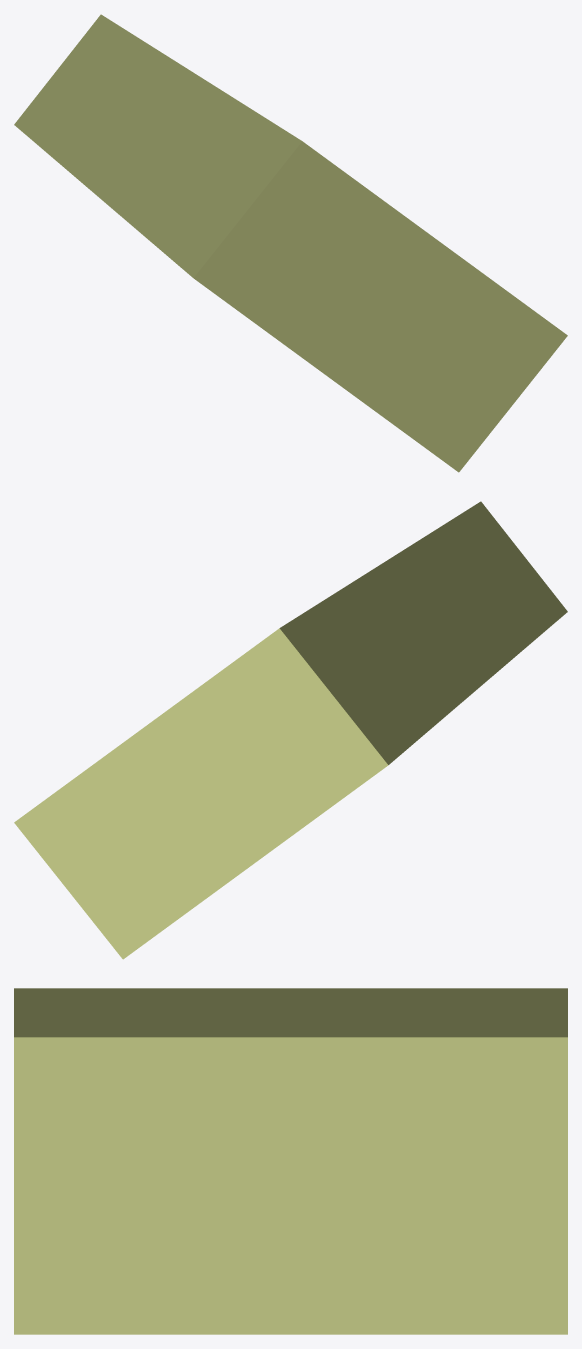
3 renders of one model, top to bottom at view 1: azimuth 30°, elevation 25°; view 2: azimuth 150°, elevation 25°; view 3: azimuth 270°, elevation 25°, orthographic. The views are drawn at different scales.
Parts seen in each view (by area): view 1: 0_0_1_2_0_0_0_0_3_1; view 2: 0_0_1_2_0_0_0_0_3_1; view 3: 0_0_1_2_0_0_0_0_3_1.
Boxes of the visible parts, box(x1,y1,x2,y2) form: 0_0_1_2_0_0_0_0_3_1: box(14, 14, 567, 472); 0_0_1_2_0_0_0_0_3_1: box(14, 501, 567, 959); 0_0_1_2_0_0_0_0_3_1: box(14, 988, 567, 1334).
Bounding box in the file's own units: 5.65 × 5.36 × 9.
